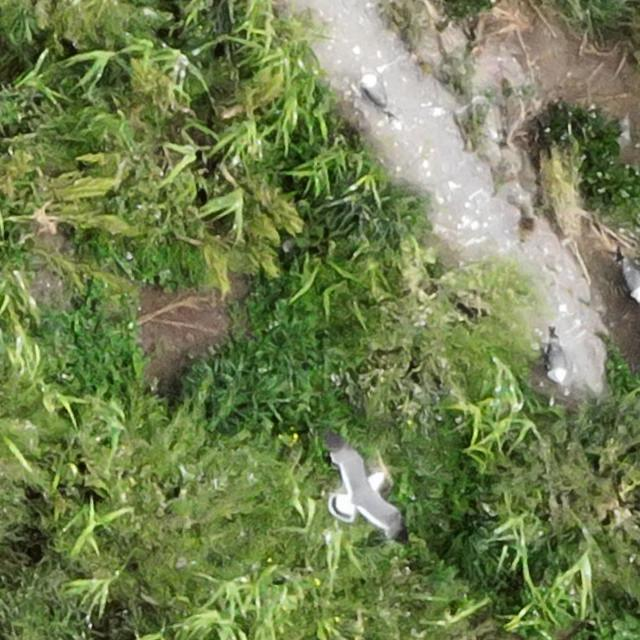F: (336, 458, 400, 534)
umineko: (361, 70, 389, 111), (547, 338, 567, 384), (623, 264, 639, 298)
